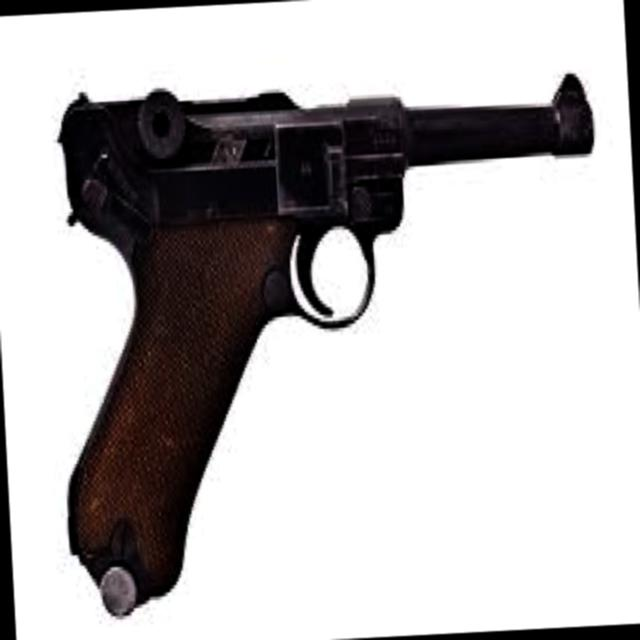semi automatic: (38, 50, 623, 626)
